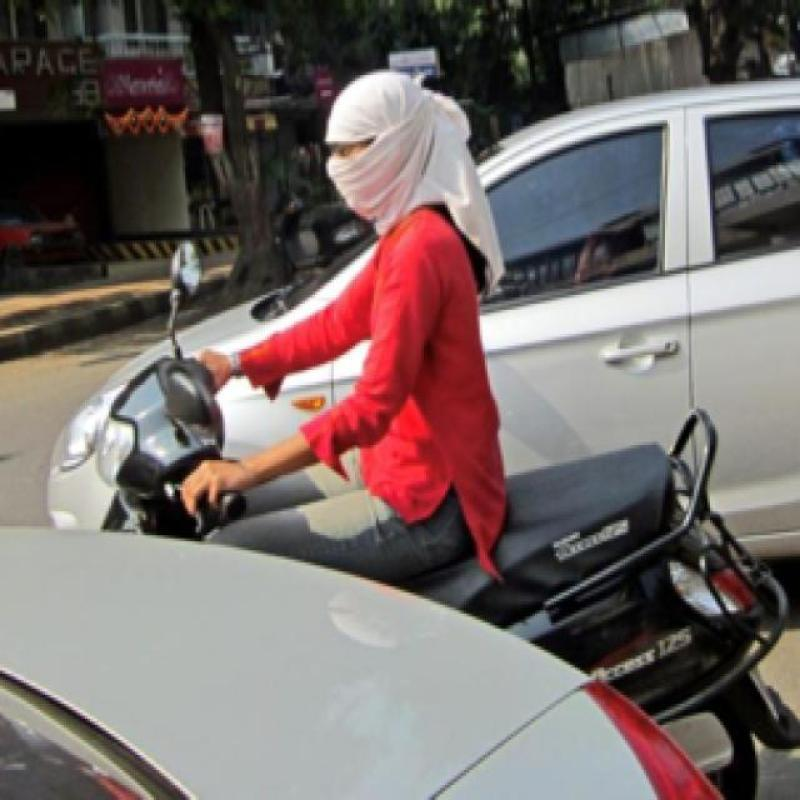nohelmet: (308, 64, 448, 230)
